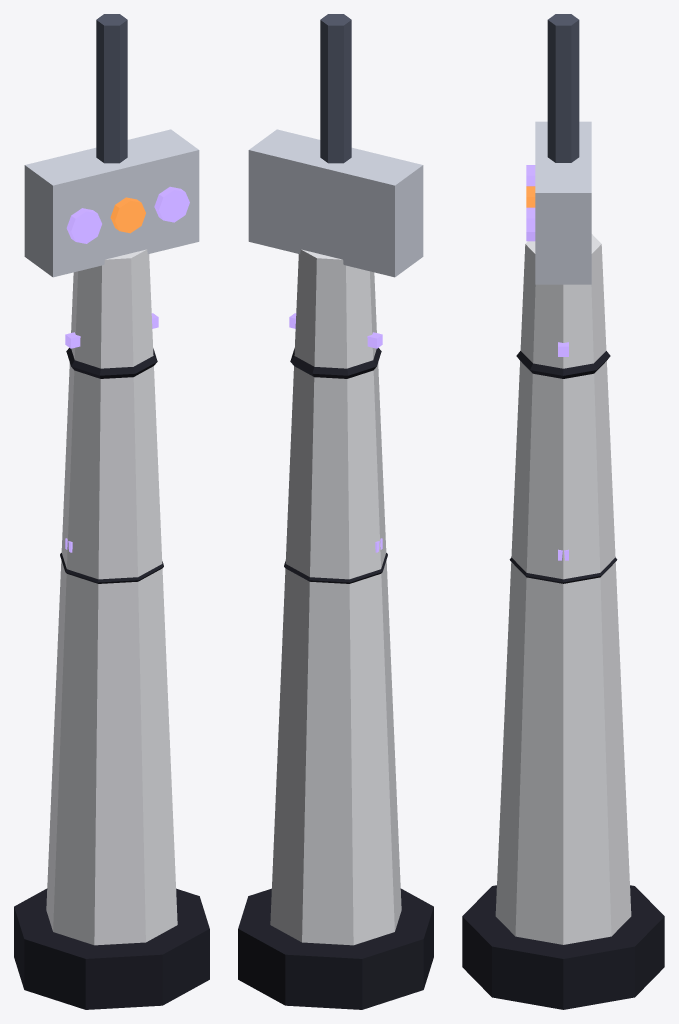
File: city_pylon.glb
3 views of the same model, side by side, from view 1: azimuth 30°, elevation 25°; view 2: azimuth 150°, elevation 25°; view 3: azimuth 270°, elevation 25° (orthographic).
Visible parts, largest first — view 1: city_pylon; view 2: city_pylon; view 3: city_pylon.
Boxes of the visible parts, box(x1,y1,x2,y2) form: city_pylon: box(14, 14, 209, 1009); city_pylon: box(238, 14, 433, 1009); city_pylon: box(462, 14, 664, 1009).
Bounding box in the file's own units: 1.8 × 9.3 × 1.8.
